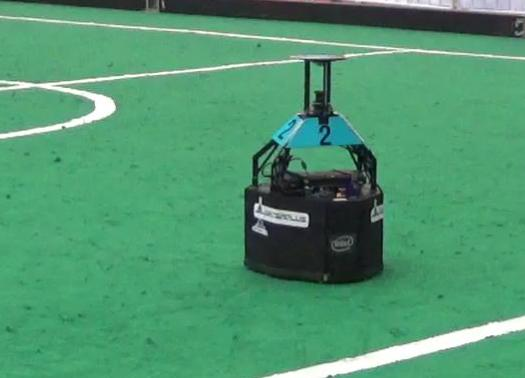robot: (243, 51, 388, 284)
